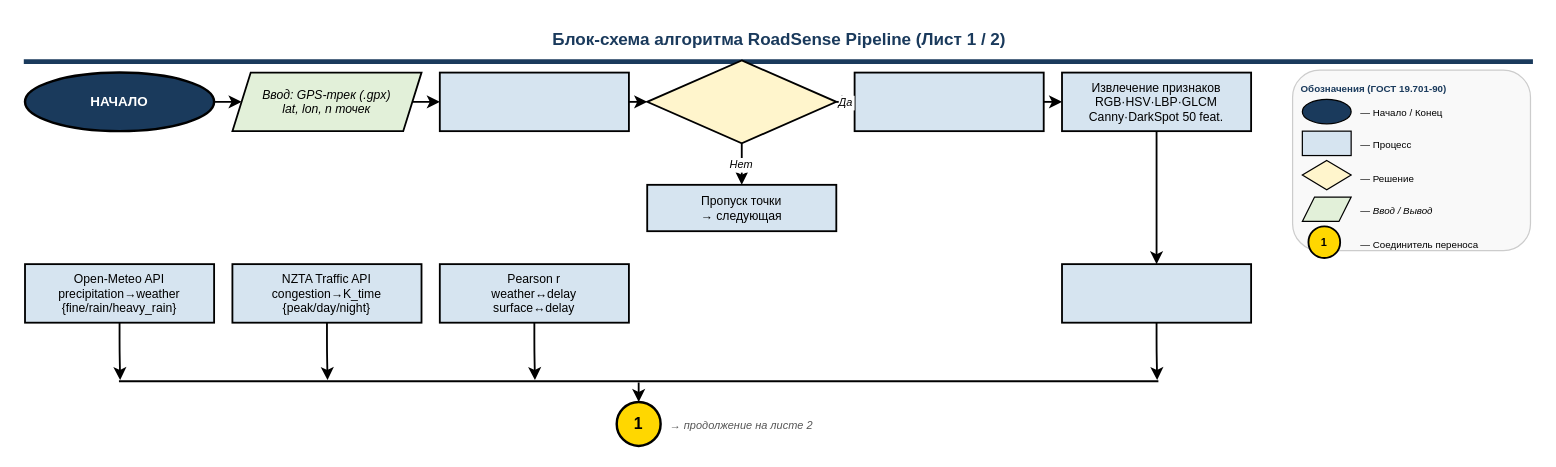
Image size: 1556x467. Some labels were removed from this diagram. The box of each missing label's shape, as (x1, y1, x2, y2) in pixels:
XGBoost.predict() → surface_class + speed_factor [0.6–1.0]: (1061, 263, 1251, 323)
Загрузка спутн. снимков LINZ API zoom 18–19: (438, 71, 629, 132)
Мозаика 3×3 768×768 px cache[key]: (853, 71, 1044, 132)
Снимок загружен?: (646, 59, 837, 144)
